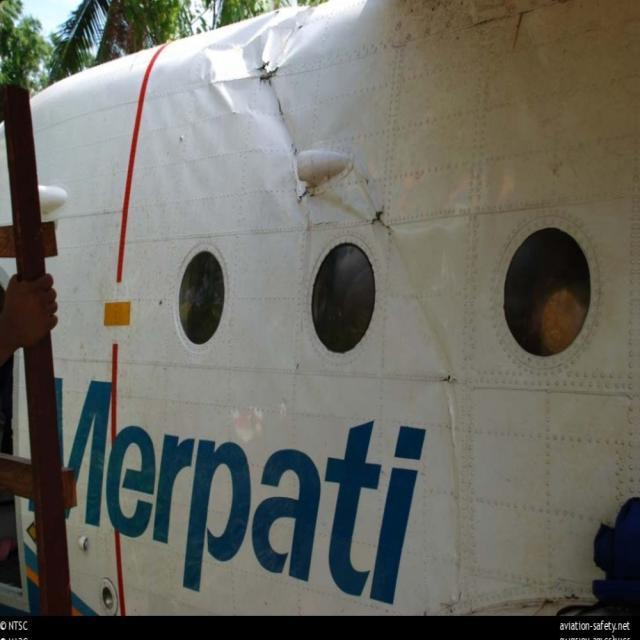crack: (256, 59, 291, 121), (366, 206, 398, 241), (439, 374, 464, 395)
dent: (229, 7, 319, 72), (207, 45, 253, 117)
